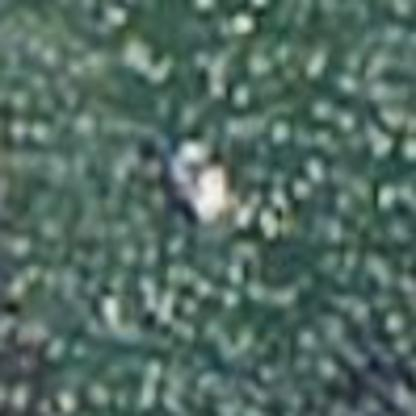ship: (150, 123, 252, 235)
